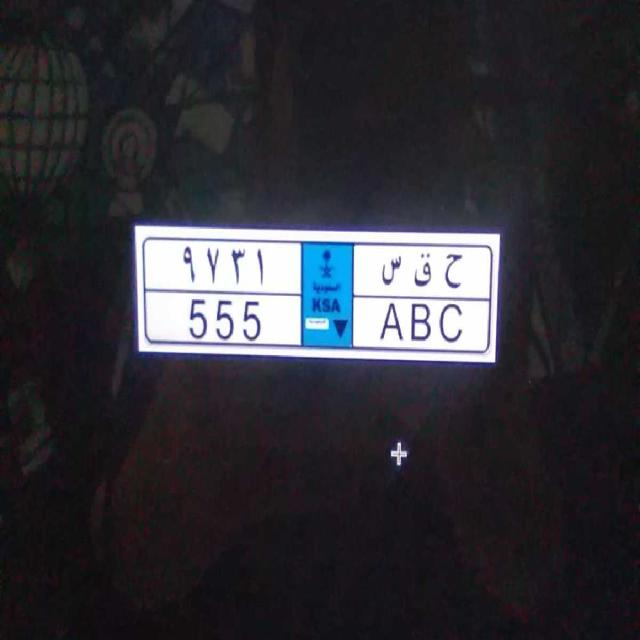license_plate: (161, 286, 468, 358)
